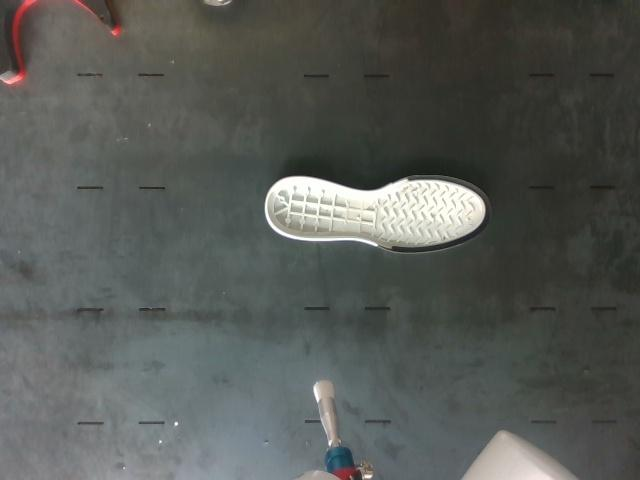shoes: (267, 176, 491, 253)
